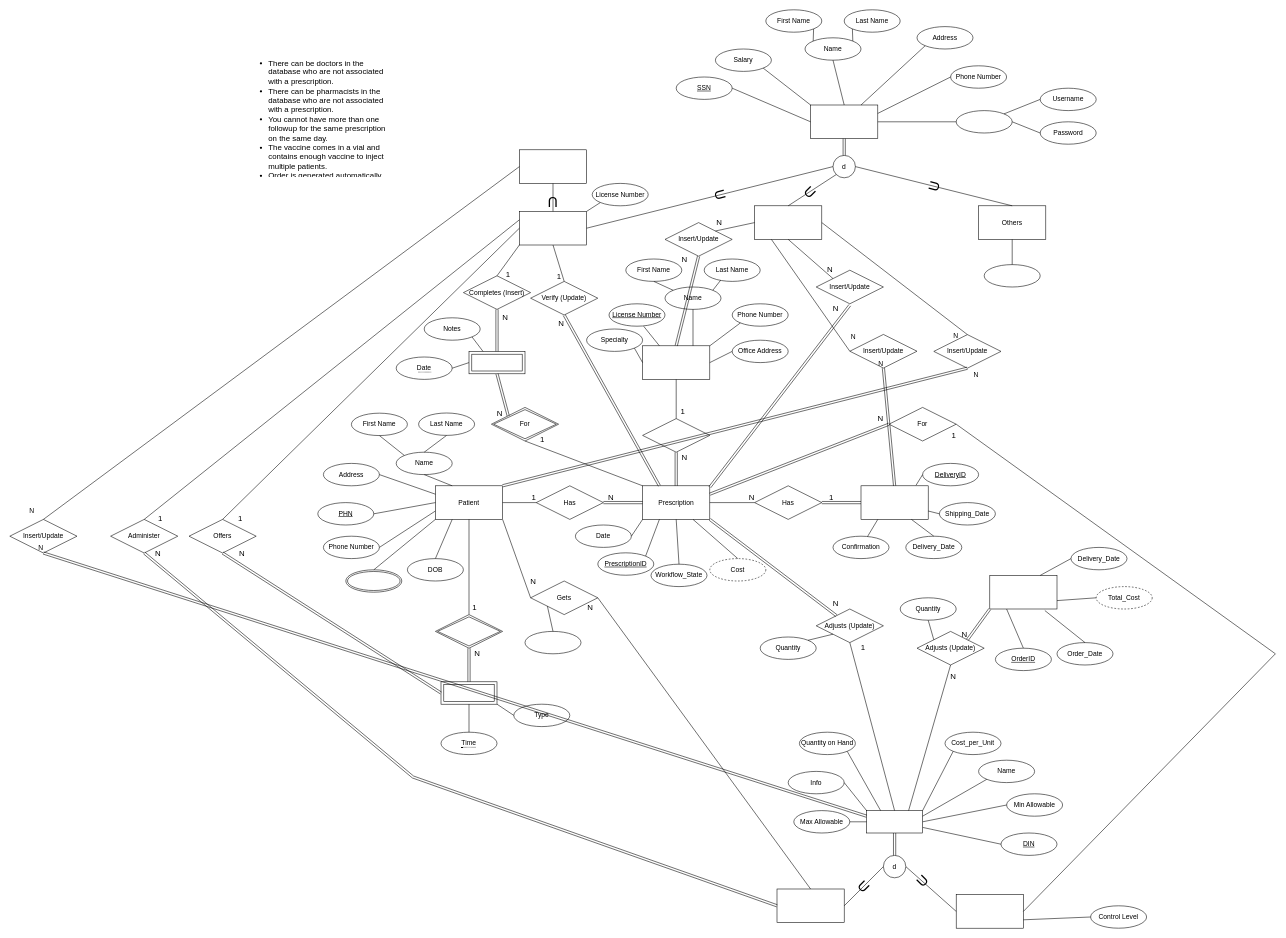
Some shapes in this 1286 by 938 pixel diagram are drawn without their labels. Here are the shapes that lost their labels. From the top down, the centre of each, then its label:
At point (844, 121): "Employee".
At point (984, 121): "Credentials".
At point (553, 166): "Manager".
At point (553, 228): "Pharmacist".
At point (788, 222): "Assistant/Technician".
At point (1012, 275): "Job_Type".
At point (496, 362): "Followup".
At point (676, 362): "Doctor".
At point (676, 435): "Prescribed".
At point (894, 502): "Delivery".
At point (373, 580): "Allergies".
At point (1023, 592): "Order".
At point (469, 631): "Books (Insert)".
At point (552, 642): "Dose_Number".
At point (468, 692): "Appointment".
At point (894, 821): "Inventory_Item".
At point (810, 905): "Vaccine".
At point (989, 911): "Medication".
